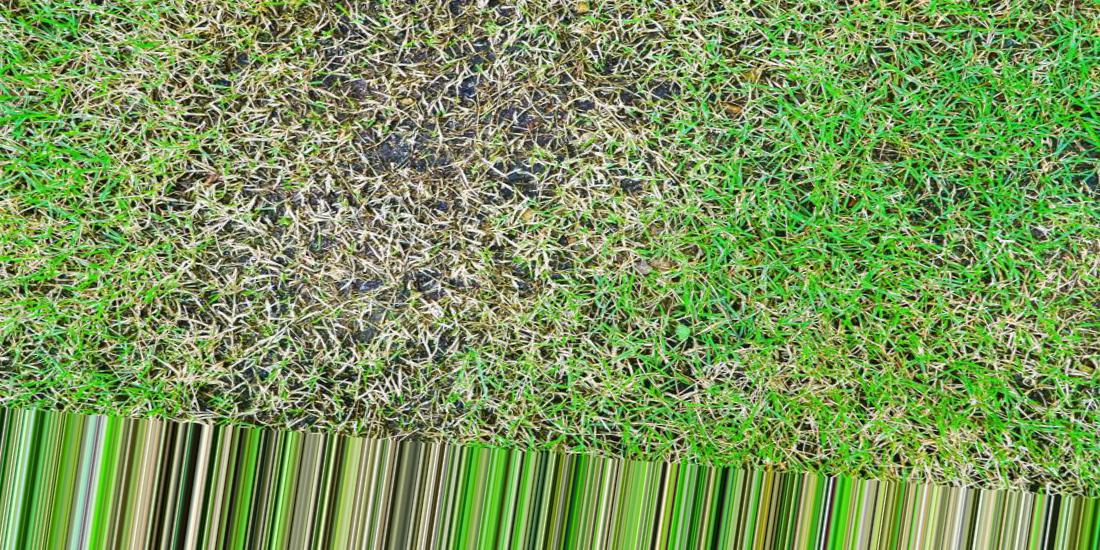patch: (156, 85, 353, 216), (383, 90, 533, 213), (238, 241, 436, 329), (473, 224, 588, 333), (563, 88, 682, 187), (417, 19, 577, 72), (592, 201, 678, 267)
